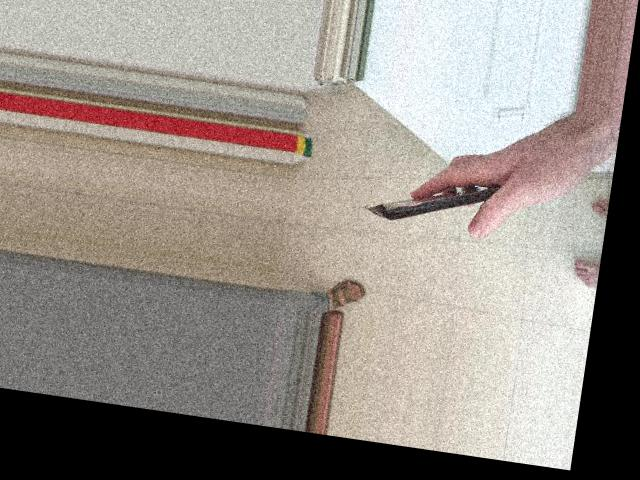chocolate: (359, 142, 525, 252)
